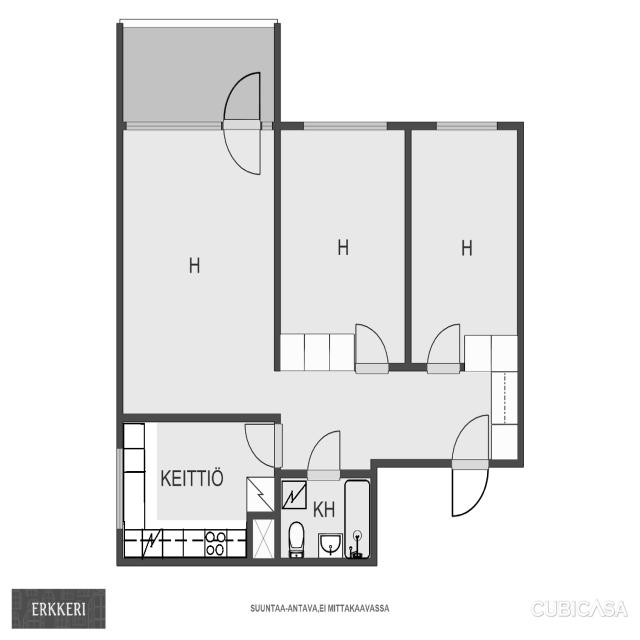door: (278, 473, 376, 562), (220, 64, 266, 179), (448, 408, 490, 523), (304, 423, 346, 482), (350, 316, 392, 373), (424, 317, 464, 373), (242, 418, 284, 468)
window: (296, 115, 392, 136), (128, 116, 222, 137), (432, 117, 501, 135), (112, 441, 124, 533)
zone: (117, 128, 280, 413), (277, 129, 409, 369), (408, 118, 520, 369), (278, 370, 521, 468), (115, 418, 281, 561), (277, 473, 373, 563)
